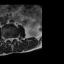CCS_normal: (10, 36, 12, 44)
LFS_stenosis: (14, 36, 16, 40)
LLS_normal: (12, 36, 14, 42)
RFS_stenosis: (6, 36, 9, 41)
RLS_normal: (8, 36, 10, 42)
